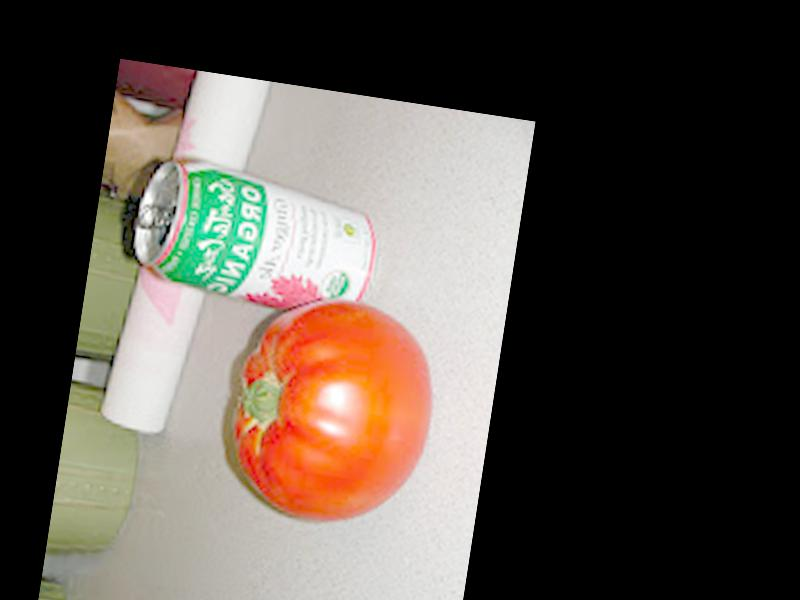Tomato: (222, 289, 443, 533)
